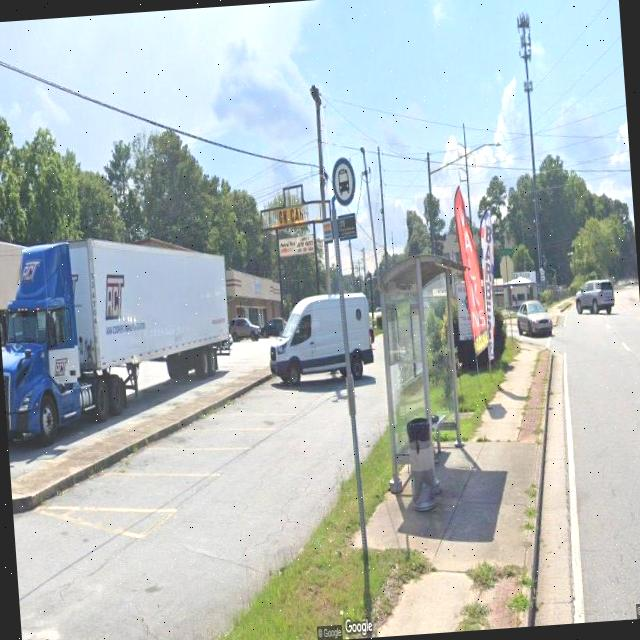seating: (406, 413, 450, 463)
shelter: (370, 252, 485, 492)
trash_can: (404, 412, 444, 497)
